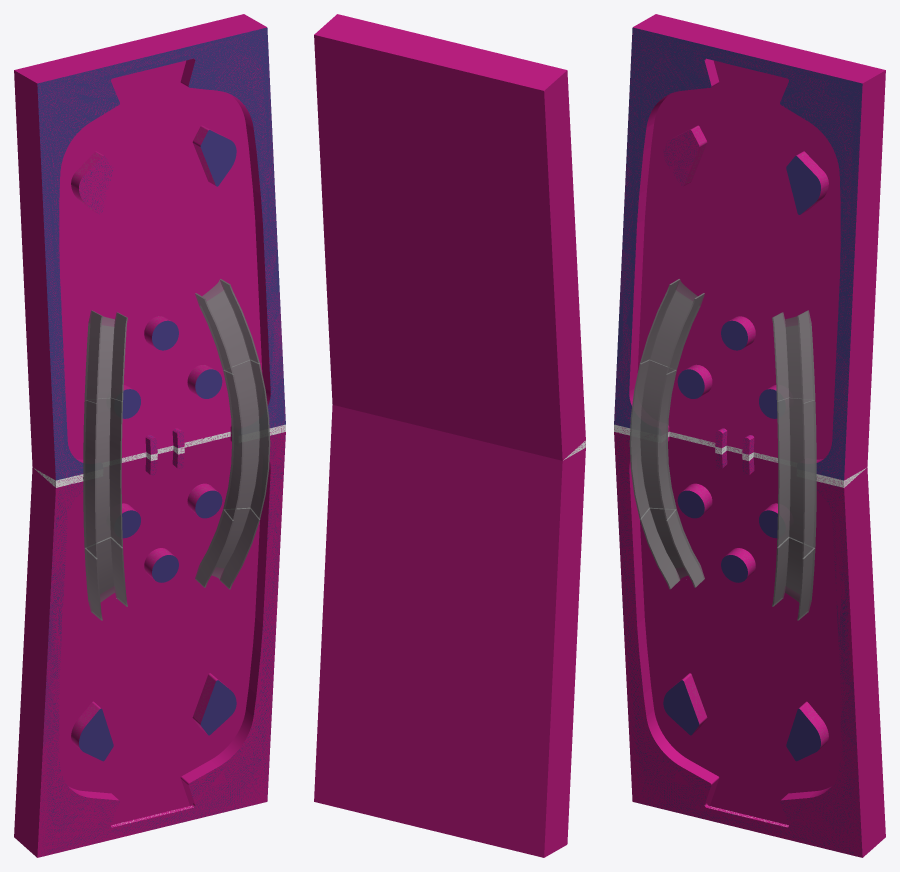
The model's file is stage1.dae.
3 renders of one model, left to right at view 1: azimuth 30°, elevation 25°; view 2: azimuth 150°, elevation 25°; view 3: azimuth 330°, elevation 25°, orthographic.
Visible parts, largest first — view 1: SketchUp (×18); view 2: SketchUp; view 3: SketchUp (×17).
Boxes of the visible parts, x1,y1,x2,y2 form: SketchUp (×18): [14, 14, 285, 857]; SketchUp: [314, 14, 585, 857]; SketchUp (×17): [614, 14, 885, 857].
Size of the model in its own units: 3346 by 1350 by 10762.
